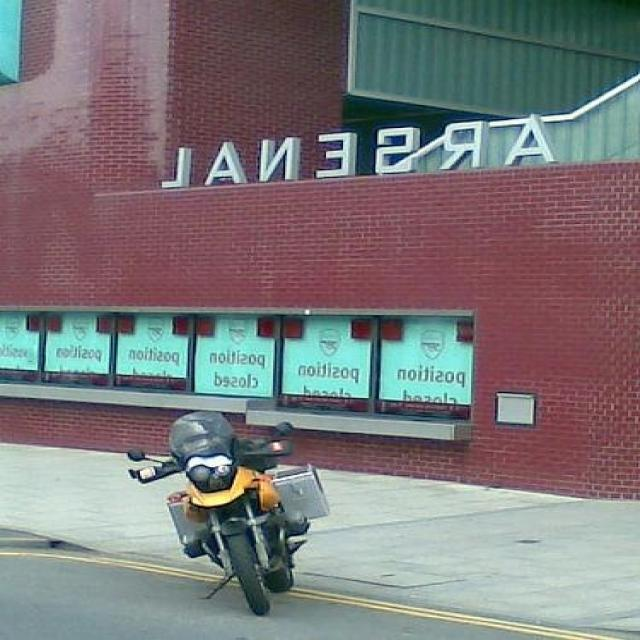Cycle: (94, 403, 352, 621)
